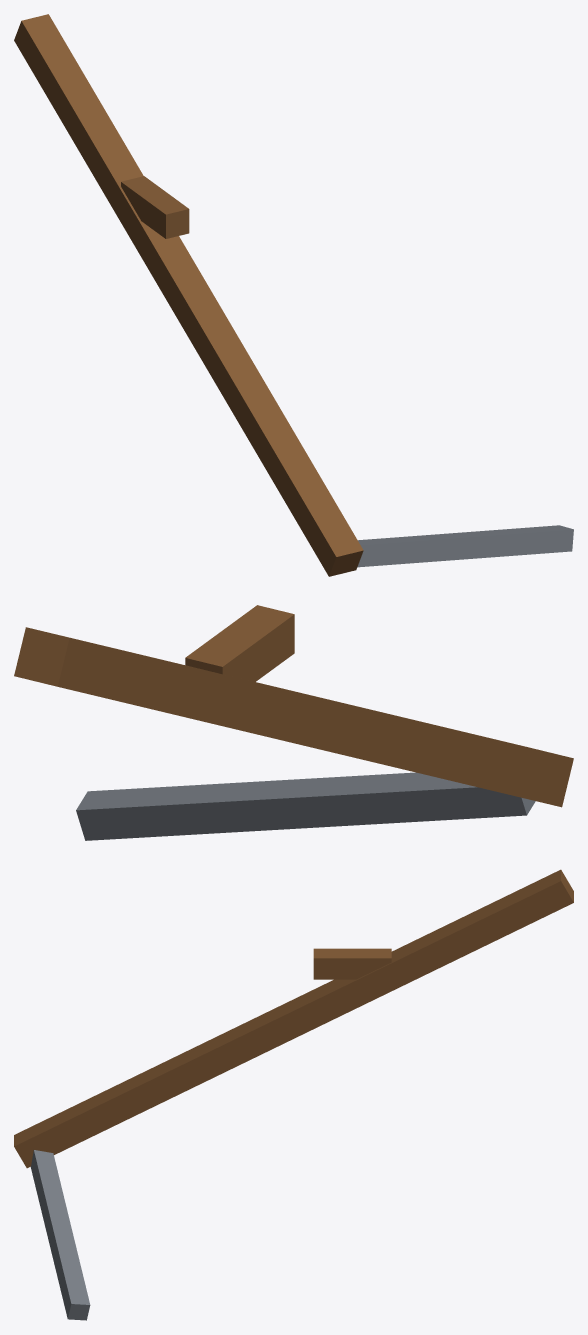
File: tool_scythe.glb
3 views of the same model, one above another, from view 1: azimuth 30°, elevation 25°; view 2: azimuth 150°, elevation 25°; view 3: azimuth 270°, elevation 25° (orthographic). The views are drawn at different scales.
Visible parts, largest first — view 1: tool_scythe; view 2: tool_scythe; view 3: tool_scythe.
Boxes of the visible parts, <box> form: tool_scythe: <box>14,14,573,576</box>; tool_scythe: <box>14,605,573,840</box>; tool_scythe: <box>14,869,573,1320</box>.
Size of the model in its own units: 0.1389 by 0.1917 by 0.2866.
